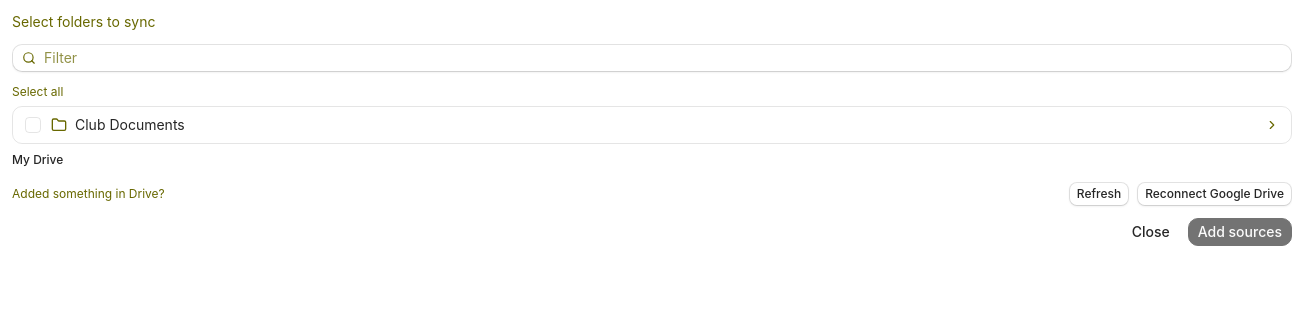
it: DrivePicker — reconnecting › reports a genuine failure without destroying the loaded listing
Expected: the text "Club Documents" is shown, 75,115 -> 185,135
Step 1. Click the button "Reconnect Google Drive" → point(1215, 194), box 1137,182 -> 1292,206
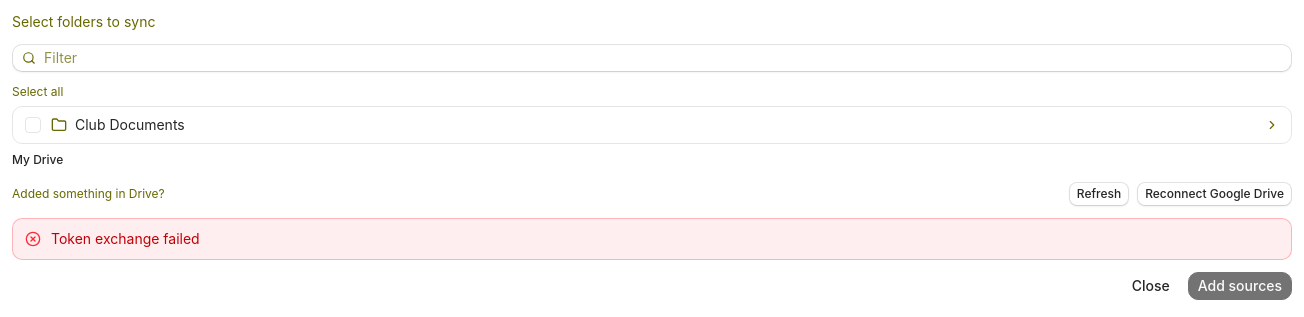
Expected: the text "Club Documents" is shown, 75,115 -> 185,135
Result: the text "Token exchange failed" is shown at 51,230 -> 200,247
